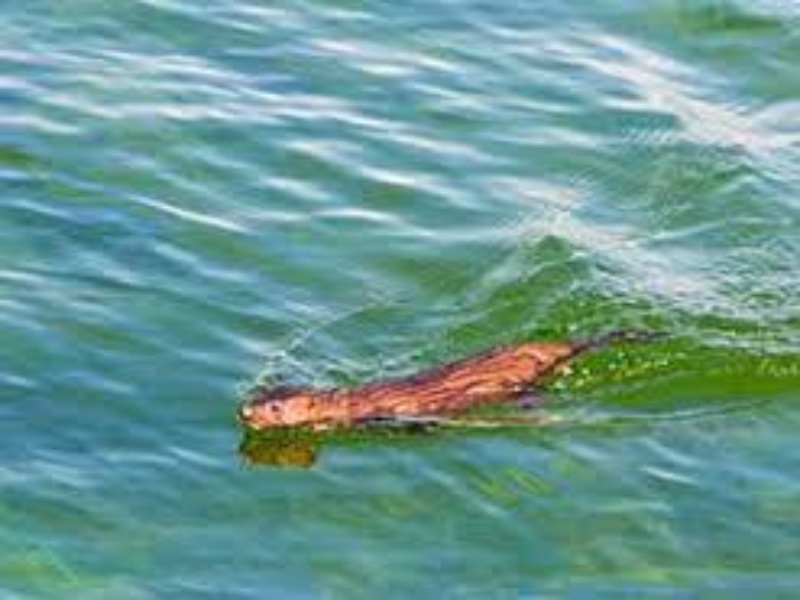minkish: (236, 323, 664, 439)
